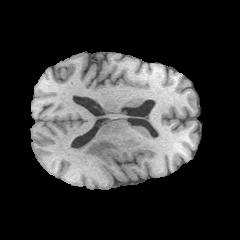glioma: (79, 139, 117, 167)
